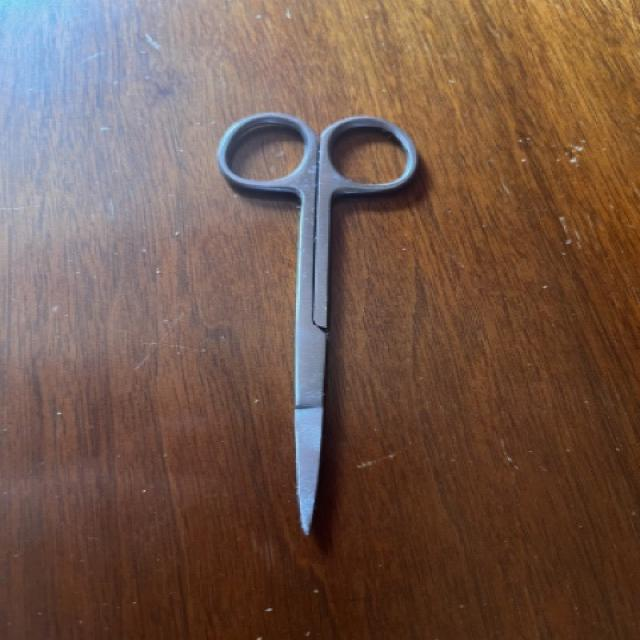scissor: (208, 106, 434, 544)
